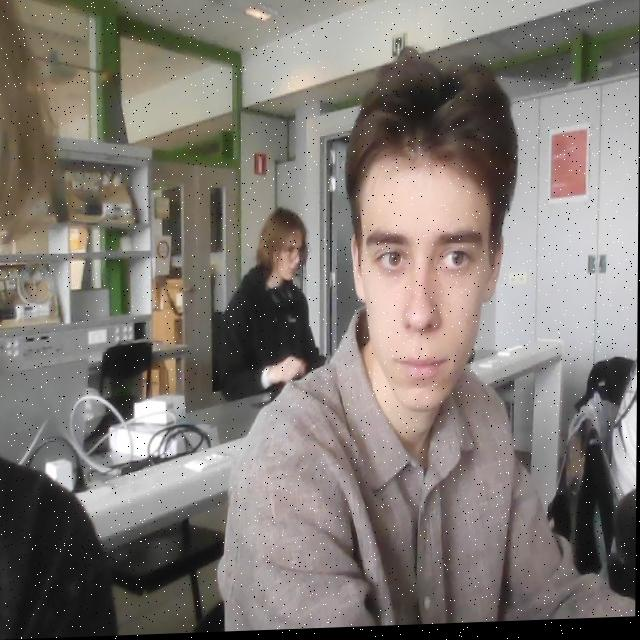opened_eye: (436, 246, 477, 274), (372, 247, 409, 273)
